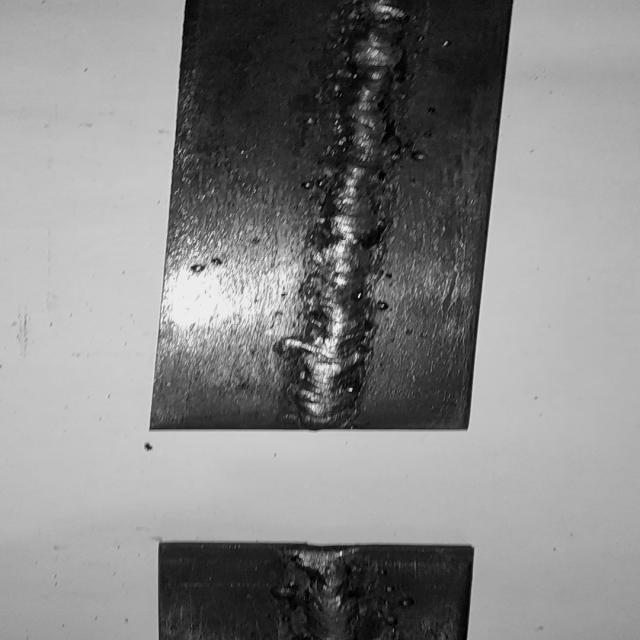Defect: (292, 552, 368, 640), (316, 2, 427, 56)
Welding Line: (286, 0, 416, 424)
Workpiece: (142, 0, 520, 431), (154, 540, 478, 640)
